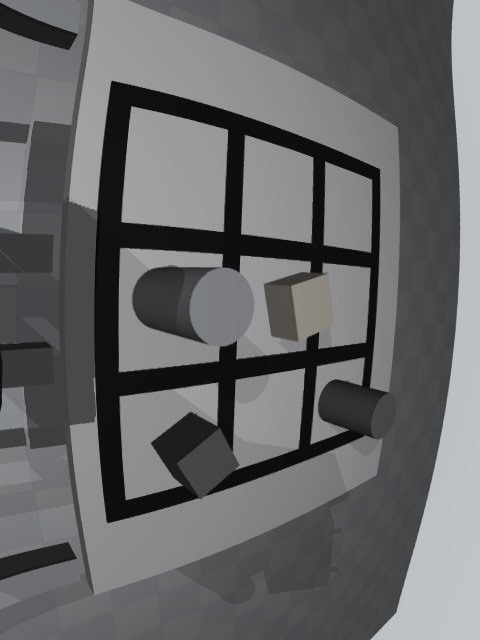can: (132, 267, 254, 346)
cube: (150, 412, 239, 499)
cylinder: (318, 379, 396, 440)
foam: (264, 272, 334, 341)
